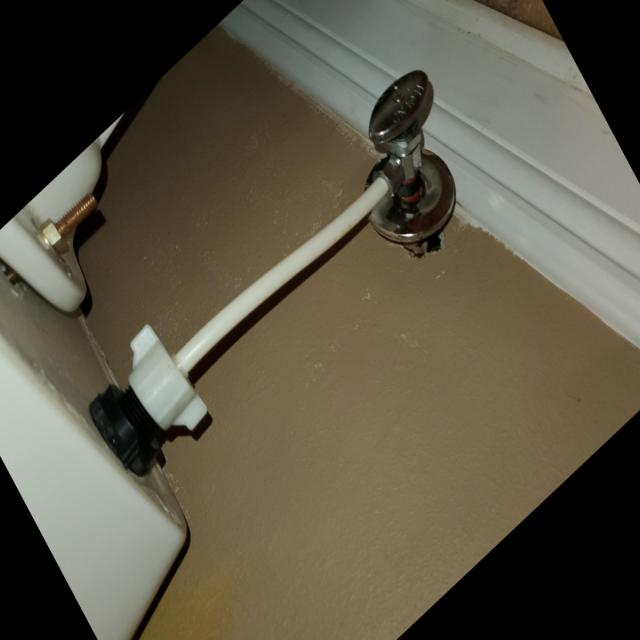good_coupler: (112, 314, 222, 448)
good_line: (224, 190, 376, 340)
good_valve: (341, 65, 462, 201)
rusty_bolt: (47, 186, 100, 254)
